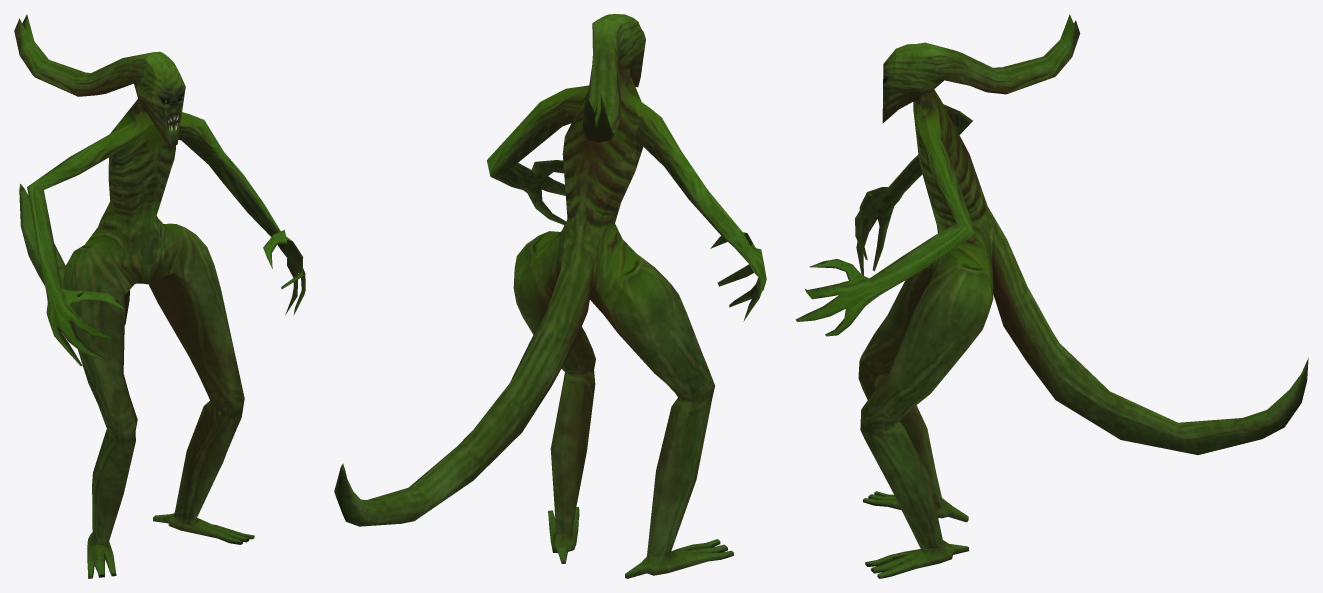
The model's file is Alien_1.glb.
3 views of the same model, side by side, from view 1: azimuth 30°, elevation 25°; view 2: azimuth 150°, elevation 25°; view 3: azimuth 270°, elevation 25° (orthographic). The views are drawn at different scales.
Parts seen in each view (by area): view 1: Alien_1 Model; view 2: Alien_1 Model; view 3: Alien_1 Model.
Boxes of the visible parts, x1,y1,x2,y2 form: Alien_1 Model: (14,14,305,578); Alien_1 Model: (334,14,766,578); Alien_1 Model: (795,14,1308,578).
Bounding box in the file's own units: 33.96 × 69.48 × 65.01.
Materials: 1 (1 with a texture image).
